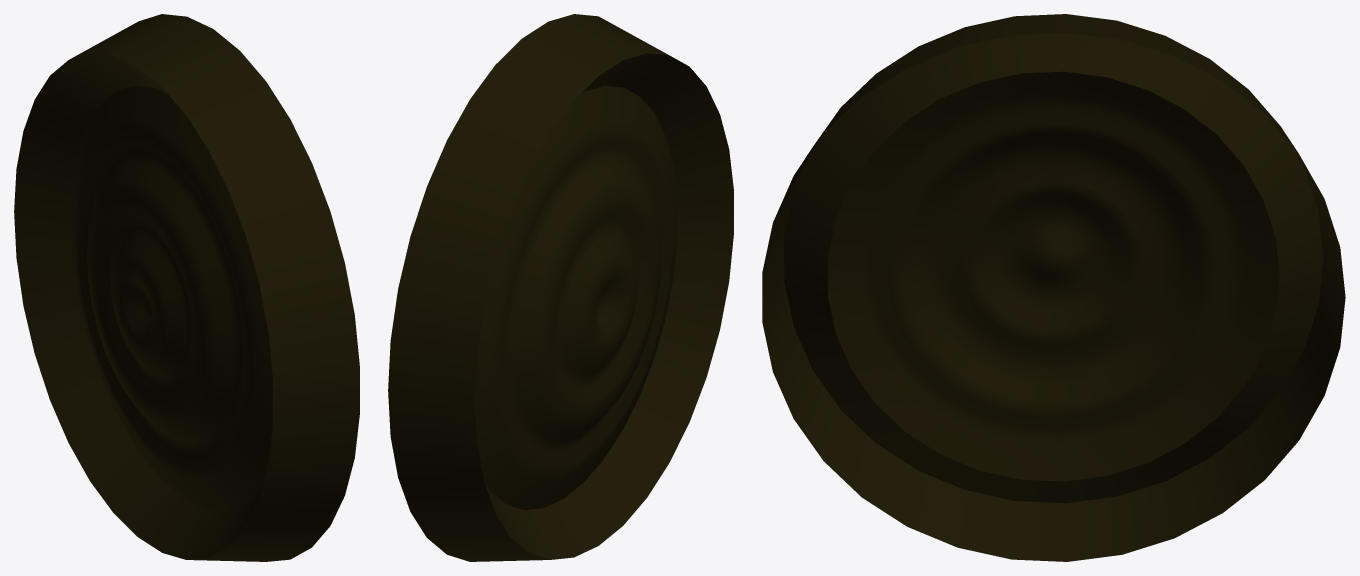
File: DDRSpeaker.fbx
3 renders of one model, left to right at view 1: azimuth 30°, elevation 25°; view 2: azimuth 150°, elevation 25°; view 3: azimuth 270°, elevation 25°, orthographic. The views are drawn at different scales.
Visible parts, largest first — view 1: Sphere006; view 2: Sphere006; view 3: Sphere006.
Boxes of the visible parts, box(x1,y1,x2,y2) form: Sphere006: box(14, 14, 359, 561); Sphere006: box(388, 14, 733, 561); Sphere006: box(762, 14, 1345, 561).
Size of the model in its own units: 4.08 by 24.06 by 24.04.
